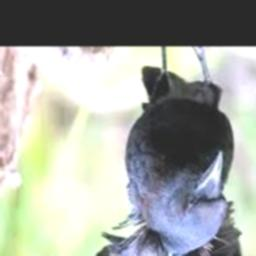Crow: (19, 46, 256, 256)
